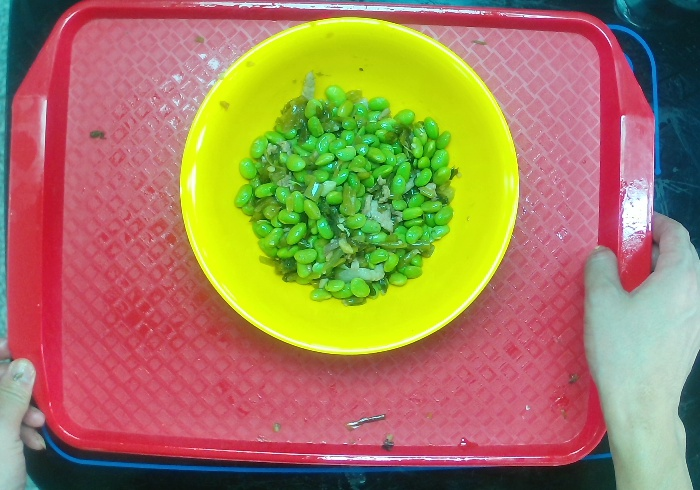YKMZ-Huang_Se_Tang_Wan: (178, 13, 520, 351)
